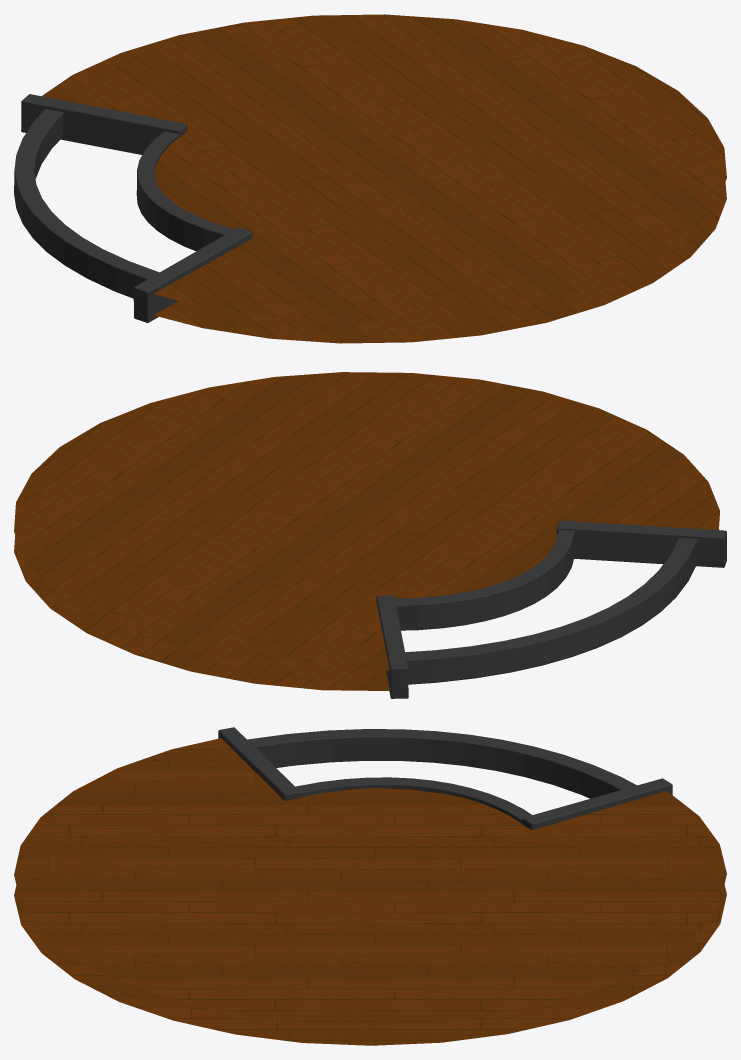
The model's file is SM_FloorWood_01.FBX.
3 views of the same model, one above another, from view 1: azimuth 30°, elevation 25°; view 2: azimuth 150°, elevation 25°; view 3: azimuth 270°, elevation 25° (orthographic). The views are drawn at different scales.
Parts seen in each view (by area): view 1: SM_FloorWood_01; view 2: SM_FloorWood_01; view 3: SM_FloorWood_01.
Part boxes in pixels (x1,y1,x2,y2): SM_FloorWood_01: [14, 14, 726, 343]; SM_FloorWood_01: [14, 372, 726, 698]; SM_FloorWood_01: [14, 727, 726, 1045].
Size of the model in its own units: 1222 by 1253 by 62.86.
